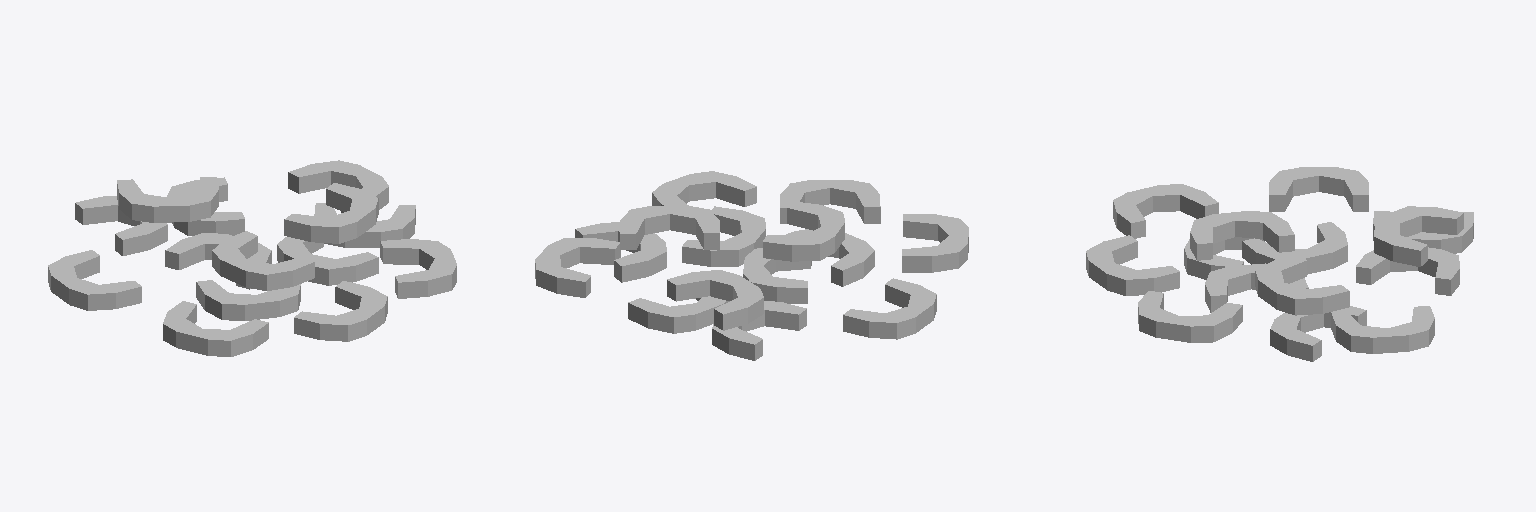
File: celery_chop_3.obj
3 renders of one model, left to right at view 1: azimuth 30°, elevation 25°; view 2: azimuth 150°, elevation 25°; view 3: azimuth 270°, elevation 25°, orthographic.
Parts seen in each view (by area): view 1: chop3 Celery pCube58, chop3 Celery pCube59, chop3 Celery pCube57, pCube47 chop3 Celery, chop3 Celery pCube54, chop3 Celery pCube48, chop3 Celery pCube60, chop3 Celery pCube51, chop3 Celery pCube49, chop3 Celery pCube55, chop3 Celery pCube53, chop3 Celery pCube56 (+2 smaller); view 2: chop3 Celery pCube60, pCube47 chop3 Celery, chop3 Celery pCube59, chop3 Celery pCube55, chop3 Celery pCube48, chop3 Celery pCube58, chop3 Celery pCube53, chop3 Celery pCube57, chop3 Celery pCube54, chop3 Celery pCube49, chop3 Celery pCube52, chop3 Celery pCube56 (+2 smaller); view 3: chop3 Celery pCube58, chop3 Celery pCube60, chop3 Celery pCube57, chop3 Celery pCube54, chop3 Celery pCube59, chop3 Celery pCube48, chop3 Celery pCube55, pCube47 chop3 Celery, chop3 Celery pCube50, chop3 Celery pCube56, chop3 Celery pCube52, chop3 Celery pCube53 (+2 smaller).
Part boxes in pixels (bbox=[...]): chop3 Celery pCube58: bbox=[284, 183, 378, 243]; chop3 Celery pCube59: bbox=[212, 231, 314, 290]; chop3 Celery pCube57: bbox=[294, 281, 387, 341]; pCube47 chop3 Celery: bbox=[48, 250, 141, 310]; chop3 Celery pCube54: bbox=[380, 239, 456, 298]; chop3 Celery pCube48: bbox=[163, 301, 268, 356]; chop3 Celery pCube60: bbox=[117, 177, 218, 222]; chop3 Celery pCube51: bbox=[196, 280, 300, 320]; chop3 Celery pCube49: bbox=[75, 196, 167, 255]; chop3 Celery pCube55: bbox=[288, 160, 388, 212]; chop3 Celery pCube53: bbox=[277, 237, 378, 285]; chop3 Celery pCube56: bbox=[314, 203, 415, 247]; chop3 Celery pCube60: bbox=[667, 270, 763, 330]; pCube47 chop3 Celery: bbox=[843, 278, 936, 339]; chop3 Celery pCube59: bbox=[763, 201, 844, 261]; chop3 Celery pCube55: bbox=[535, 238, 620, 297]; chop3 Celery pCube48: bbox=[902, 214, 968, 272]; chop3 Celery pCube58: bbox=[620, 206, 719, 249]; chop3 Celery pCube53: bbox=[682, 206, 765, 266]; chop3 Celery pCube57: bbox=[780, 180, 880, 223]; chop3 Celery pCube54: bbox=[652, 171, 756, 206]; chop3 Celery pCube49: bbox=[712, 301, 806, 360]; chop3 Celery pCube52: bbox=[628, 296, 729, 333]; chop3 Celery pCube56: bbox=[575, 222, 666, 282]; chop3 Celery pCube58: bbox=[1255, 254, 1349, 315]; chop3 Celery pCube60: bbox=[1374, 206, 1463, 266]; chop3 Celery pCube57: bbox=[1086, 235, 1179, 295]; chop3 Celery pCube54: bbox=[1138, 291, 1242, 342]; chop3 Celery pCube59: bbox=[1190, 211, 1294, 260]; chop3 Celery pCube48: bbox=[1113, 184, 1218, 238]; chop3 Celery pCube55: bbox=[1331, 306, 1434, 353]; pCube47 chop3 Celery: bbox=[1269, 167, 1368, 211]; chop3 Celery pCube50: bbox=[1242, 222, 1347, 274]; chop3 Celery pCube56: bbox=[1270, 306, 1366, 361]; chop3 Celery pCube52: bbox=[1356, 247, 1459, 295]; chop3 Celery pCube53: bbox=[1205, 263, 1308, 312].
Bounding box in the file's own units: 0.5876 × 0.0646 × 0.5607.